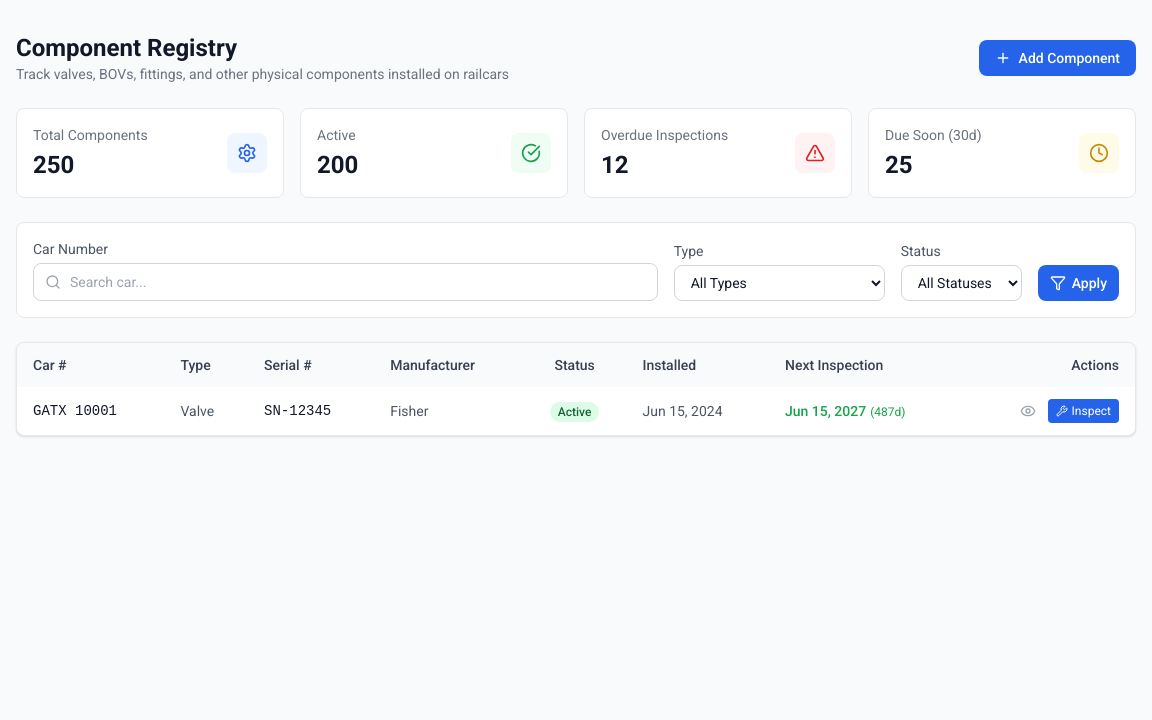
Test: ComponentRegistryPage › shows inspect modal when Inspect clicked
Click the button "Inspect" at [1083, 411], box x1=1048 y1=399 x2=1119 y2=423
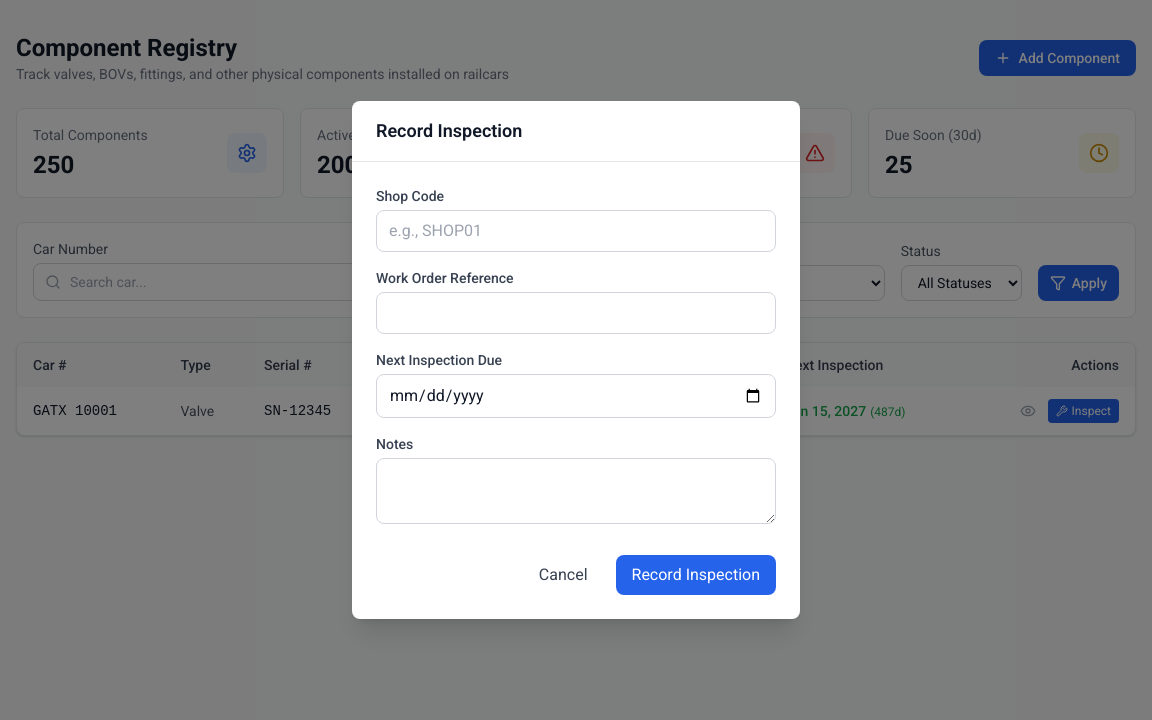
Now the number of headings "Record Inspection" is 2, box x1=376 y1=120 x2=522 y2=141; x1=616 y1=555 x2=776 y2=595
Now the text "Shop Code" is shown, box x1=376 y1=188 x2=444 y2=204
Now the text "Work Order Reference" is shown, box x1=376 y1=270 x2=514 y2=286
